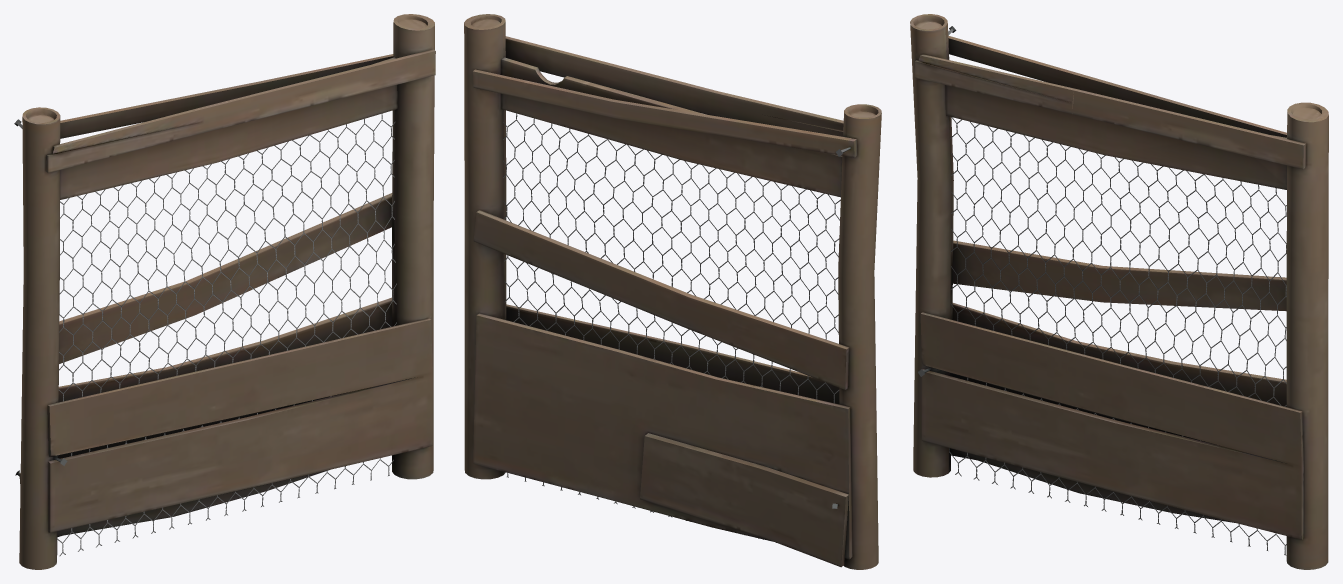
3 renders of one model, left to right at view 1: azimuth 30°, elevation 25°; view 2: azimuth 150°, elevation 25°; view 3: azimuth 330°, elevation 25°, orthographic.
Visible parts, largest first — view 1: body0_model0_lod0_mesh0, body0_model0_lod0_mesh1; view 2: body0_model0_lod0_mesh0, body0_model0_lod0_mesh1; view 3: body0_model0_lod0_mesh0, body0_model0_lod0_mesh1.
Boxes of the visible parts, x1,y1,x2,y2 form: body0_model0_lod0_mesh0: [14, 14, 435, 569]; body0_model0_lod0_mesh1: [57, 113, 396, 556]; body0_model0_lod0_mesh0: [464, 14, 881, 569]; body0_model0_lod0_mesh1: [503, 113, 840, 542]; body0_model0_lod0_mesh0: [910, 14, 1328, 569]; body0_model0_lod0_mesh1: [949, 117, 1286, 555].
Bounding box in the file's own units: 128 × 135 × 22.95.
Materials: 2 (2 with a texture image).
